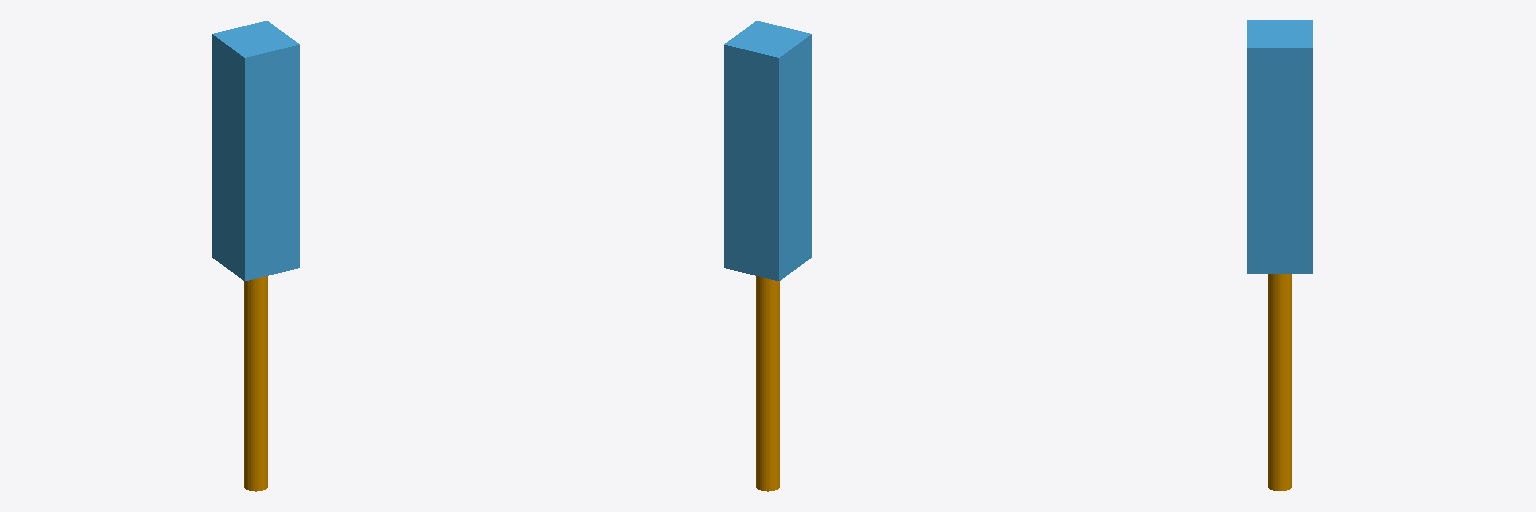
The robot description file, URDF, robot "screwdriver_on_the_table":
<?xml version="1.0" ?>
<!-- this is the one without any virtual joints and links -->
<robot name="screwdriver_on_the_table">
<link name="screwdriver_stick">
    <inertial>
      <mass value="0.05"/>
      <!-- <friction value="1.0"/> -->
      <inertia ixx="0.000041979" ixy="0.0" ixz="0.0" iyy="0.000041979" iyz="0.0" izz="0.000000625"/>
    </inertial>
    <visual>
        <origin rpy="0 0 0" xyz="0 0 0.05"/>
        <geometry>
            <cylinder radius="0.005" length="0.1"/>
        </geometry>
        <!-- <material name="White">
	 	    <color rgba="0.9 0.9 0.9 0.5"/>
        </material> -->
    </visual>
    <collision>
        <origin rpy="0 0 0" xyz="0 0 0.05"/>
        <geometry>
            <cylinder radius="0.005" length="0.1"/>
        </geometry>
    </collision>
</link>

<gazebo reference="screwdriver_body">
    <mu1>0.793323</mu1>
    <mu2>1.336604</mu2>
    <!-- Isaac Sim maps mu1/mu2 to PhysX static/dynamic friction during URDF→USD import -->
</gazebo>

<joint name="screwdriver_stick_body_joint" type="fixed">
    <parent link="screwdriver_stick"/>
    <child link="screwdriver_body"/>
    <origin rpy="0 0 0" xyz="0 0 0.1"/> 
    <axis xyz="0 0 1"/>
</joint>

<link name="screwdriver_body">
    <inertial>
      <mass value="0.103145"/>
      <inertia ixx="0.000092038" ixy="0.0" ixz="0.0" iyy="0.000091681" iyz="0.0" izz="0.000011811"/>
    </inertial>
    <visual>
        <origin rpy="0 0 0" xyz="0 0 0.05"/>
        <geometry>
            <box size="0.025813 0.026605 0.100000"/>
        </geometry>
        <!-- <material name="Red1">
	 	    <color rgba="0.9 0. 0. 0.5"/>
        </material> -->
    </visual>
    <collision>
        <origin rpy="0 0 0" xyz="0 0 0.05"/>
        <geometry>
            <box size="0.025813 0.026605 0.100000"/>
        </geometry>
    </collision>
</link>

<!-- <joint name="screwdriver_body_cap_joint" type="revolute">
    <parent link="screwdriver_body"/>
    <child link="screwdriver_cap"/>
    <origin rpy="0 0 0" xyz="0 0 0.1"/> 
    <axis xyz="0 0 1"/>
</joint>

<link name="screwdriver_cap">
    <inertial>
      <mass value="0.005"/>
      <inertia ixx="0.00001" ixy="0.0" ixz="0.0" iyy="0.000005" iyz="0.0" izz="0.000005"/>
    </inertial>
    <visual>
        <origin rpy="0 0 0" xyz="0 0 0.0006"/>
        <geometry>
            <cylinder radius="0.02" length="0.001"/>
        </geometry>
        <material name="Yellow">
	 	    <color rgba="0.9 0.9 0. 1.0"/>
        </material>
    </visual>
    <collision>
        <origin rpy="0 0 0" xyz="0 0 0.0005"/>
        <geometry>
            <cylinder radius="0.02" length="0.001"/>
        </geometry>
    </collision>
</link> -->

</robot>

--- What the picture shows (computed from the rendered views, not written in the file) ---
The picture shows the robot from 3 angles, left to right: view 1: azimuth 30°, elevation 25°; view 2: azimuth 150°, elevation 25°; view 3: azimuth 270°, elevation 25°; orthographic projection.
Model screwdriver_on_the_table with 2 links and 1 joints (1 fixed), rooted at screwdriver_stick, posed every joint at zero.
Visible links, largest first — view 1: screwdriver_body, screwdriver_stick; view 2: screwdriver_body, screwdriver_stick; view 3: screwdriver_body, screwdriver_stick.
Link boxes in pixels (x1,y1,x2,y2): screwdriver_body: (212, 21, 299, 280); screwdriver_stick: (244, 276, 267, 491); screwdriver_body: (724, 21, 811, 280); screwdriver_stick: (756, 276, 779, 491); screwdriver_body: (1247, 20, 1312, 273); screwdriver_stick: (1268, 274, 1291, 490).
Size in the robot's own frame: 0.0258 by 0.0266 by 0.2 metres.
Geometry: primitives only (box / cylinder / sphere), no mesh files.
